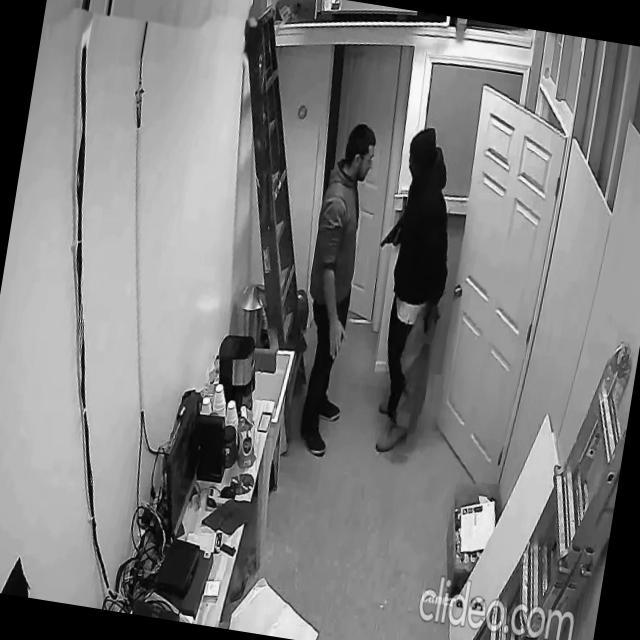gun: (380, 223, 400, 249)
person: (282, 119, 388, 461)
person with a gun: (349, 120, 470, 462)
